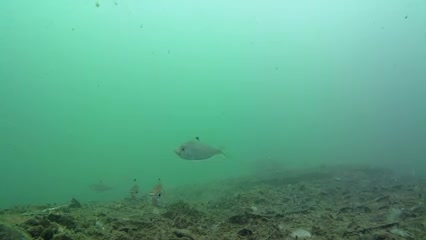smallfish: (169, 132, 235, 168)
